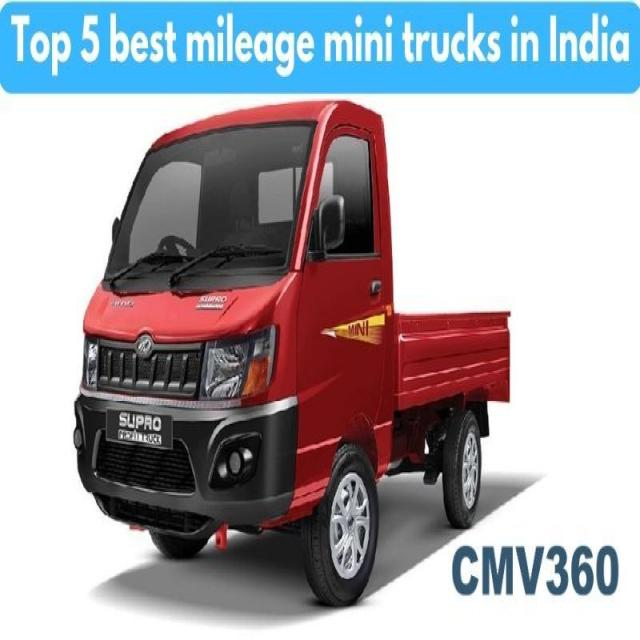truck: (74, 100, 509, 606)
